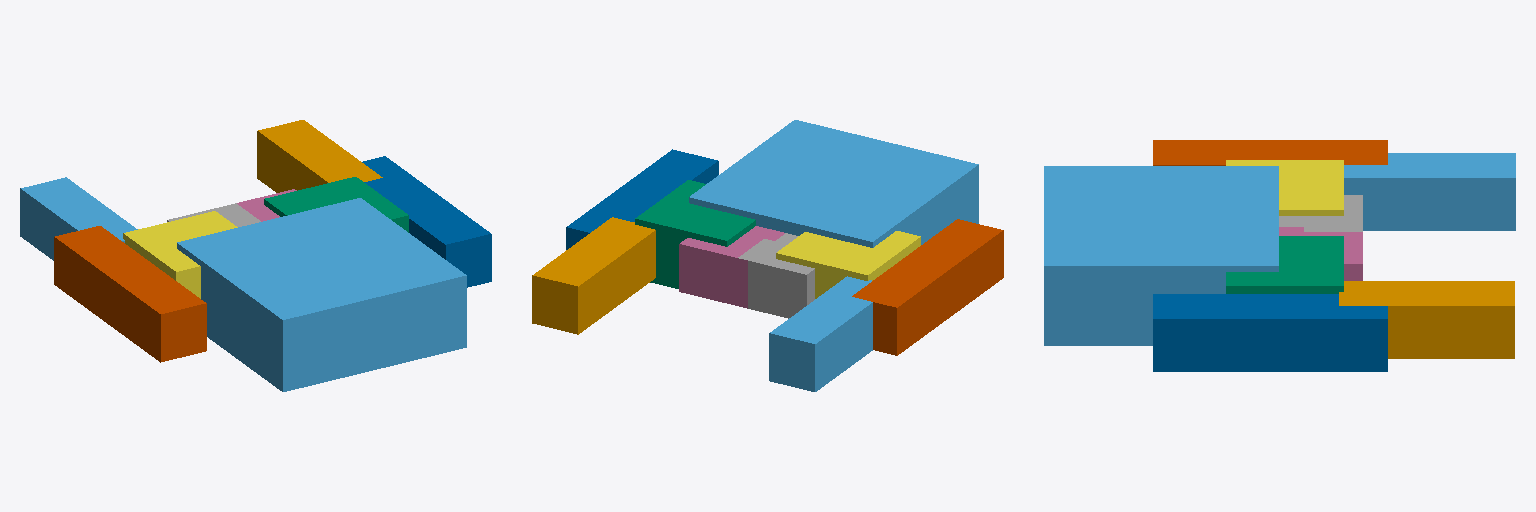
URDF robot description (sisbot):
<?xml version="1.0" ?>
<!-- =================================================================================== -->
<!-- |    This document was autogenerated by xacro from sisbot.xacro                   | -->
<!-- |    EDITING THIS FILE BY HAND IS NOT RECOMMENDED                                 | -->
<!-- =================================================================================== -->
<robot name="sisbot" xmlns:xacro="http://ros.org/wiki/xacro">
  <!--################################################
  ########              arm                    #######
  ####################################################-->

  <link name="base_link">
    <visual>
      <geometry>
        <mesh filename="../meshes/ur5/visual/base.obj"/>
      </geometry>
      <material name="LightGrey">
        <color rgba="0.7 0.7 0.7 1.0"/>
      </material>
    </visual>
    <collision>
      <geometry>
        <mesh filename="../meshes/ur5/collision/base.stl"/>
      </geometry>
    </collision>
    <inertial>
      <mass value="4.0"/>
      <origin rpy="0 0 0" xyz="0.0 0.0 0.0"/>
      <inertia ixx="0.00443333156" ixy="0.0" ixz="0.0" iyy="0.00443333156" iyz="0.0" izz="0.0072"/>
    </inertial>
  </link>

  <joint name="shoulder_pan_joint" type="revolute">
    <parent link="base_link"/>
    <child link="shoulder_link"/>
    <origin rpy="0.0 0.0 0.0" xyz="0.0 0.0 0.089159"/>
    <axis xyz="0 0 1"/>
    <limit effort="12550.0" lower="-3.14159265359" upper="3.14159265359" velocity="3.15"/>
    <dynamics damping="0.0" friction="0.0"/>
  </joint>
  <link name="shoulder_link">
    <visual>
      <geometry>
        <mesh filename="../meshes/ur5/visual/shoulder.obj"/>
      </geometry>
      <material name="LightGrey">
        <color rgba="0.7 0.7 0.7 1.0"/>
      </material>
    </visual>
    <collision>
      <geometry>
        <mesh filename="../meshes/ur5/collision/shoulder.stl"/>
      </geometry>
    </collision>
    <inertial>
      <mass value="3.7"/>
      <origin rpy="0 0 0" xyz="0.0 0.0 0.0"/>
      <inertia ixx="5" ixy="0.0" ixz="0.0" iyy="5" iyz="0.0" izz="5"/>
    </inertial>
  </link>
  <joint name="shoulder_lift_joint" type="revolute">
    <parent link="shoulder_link"/>
    <child link="upper_arm_link"/>
    <origin rpy="0.0 1.57079632679 0.0" xyz="0.0 0.13585 0.0"/>
    <axis xyz="0 1 0"/>
    <limit effort="1550.0" lower="-3.14159265359" upper="3.14159265359" velocity="3.15"/>
    <dynamics damping="0.0" friction="0.0"/>
  </joint>
  <link name="upper_arm_link">
    <visual>
      <geometry>
        <mesh filename="../meshes/ur5/visual/upperarm.obj"/>
      </geometry>
      <material name="LightGrey">
        <color rgba="0.7 0.7 0.7 1.0"/>
      </material>
    </visual>
    <collision>
      <geometry>
        <mesh filename="../meshes/ur5/collision/upperarm.stl"/>
      </geometry>
    </collision>
    <inertial>
      <mass value="8.393"/>
      <origin rpy="0 0 0" xyz="0.0 0.0 0.28"/>
      <inertia ixx="0.22689067591" ixy="0.0" ixz="0.0" iyy="0.22689067591" iyz="0.0" izz="0.0151074"/>
    </inertial>
  </link>
  <joint name="elbow_joint" type="revolute">
    <parent link="upper_arm_link"/>
    <child link="forearm_link"/>
    <origin rpy="0.0 0.0 0.0" xyz="0.0 -0.1197 0.425"/>
    <axis xyz="0 1 0"/>
    <limit effort="1550.0" lower="-3.14159265359" upper="3.14159265359" velocity="3.15"/>
    <dynamics damping="0.0" friction="0.0"/>
  </joint>
  <link name="forearm_link">
    <visual>
      <geometry>
        <mesh filename="../meshes/ur5/visual/forearm.obj"/>
      </geometry>
      <material name="LightGrey">
        <color rgba="0.7 0.7 0.7 1.0"/>
      </material>
    </visual>
    <collision>
      <geometry>
        <mesh filename="../meshes/ur5/collision/forearm.stl"/>
      </geometry>
    </collision>
    <inertial>
      <mass value="2.275"/>
      <origin rpy="0 0 0" xyz="0.0 0.0 0.25"/>
      <inertia ixx="0.049443313556" ixy="0.0" ixz="0.0" iyy="0.049443313556" iyz="0.0" izz="0.004095"/>
    </inertial>
  </link>
  <joint name="wrist_1_joint" type="revolute">
    <parent link="forearm_link"/>
    <child link="wrist_1_link"/>
    <origin rpy="0.0 1.57079632679 0.0" xyz="0.0 0.0 0.39225"/>
    <axis xyz="0 1 0"/>
    <limit effort="1558.0" lower="-3.14159265359" upper="3.14159265359" velocity="3.2"/>
    <dynamics damping="0.0" friction="0.0"/>
  </joint>
  <link name="wrist_1_link">
    <visual>
      <geometry>
        <mesh filename="../meshes/ur5/visual/wrist1.obj"/>
      </geometry>
      <material name="LightGrey">
        <color rgba="0.7 0.7 0.7 1.0"/>
      </material>
    </visual>
    <collision>
      <geometry>
        <mesh filename="../meshes/ur5/collision/wrist1.stl"/>
      </geometry>
    </collision>
    <inertial>
      <mass value="1.219"/>
      <origin rpy="0 0 0" xyz="0.0 0.0 0.0"/>
      <inertia ixx="0.111172755531" ixy="0.0" ixz="0.0" iyy="0.111172755531" iyz="0.0" izz="0.21942"/>
    </inertial>
  </link>
  <joint name="wrist_2_joint" type="revolute">
    <parent link="wrist_1_link"/>
    <child link="wrist_2_link"/>
    <origin rpy="0.0 0.0 0.0" xyz="0.0 0.093 0.0"/>
    <axis xyz="0 0 1"/>
    <limit effort="1558.0" lower="-3.14159265359" upper="3.14159265359" velocity="3.2"/>
    <dynamics damping="0.0" friction="0.0"/>
  </joint>
  <link name="wrist_2_link">
    <visual>
      <geometry>
        <mesh filename="../meshes/ur5/visual/wrist2.obj"/>
      </geometry>
      <material name="LightGrey">
        <color rgba="0.7 0.7 0.7 1.0"/>
      </material>
    </visual>
    <collision>
      <geometry>
        <mesh filename="../meshes/ur5/collision/wrist2.stl"/>
      </geometry>
    </collision>
    <inertial>
      <mass value="1.219"/>
      <origin rpy="0 0 0" xyz="0.0 0.0 0.0"/>
      <inertia ixx="0.111172755531" ixy="0.0" ixz="0.0" iyy="0.111172755531" iyz="0.0" izz="0.21942"/>
    </inertial>
  </link>
  <joint name="wrist_3_joint" type="revolute">
    <parent link="wrist_2_link"/>
    <child link="wrist_3_link"/>
    <origin rpy="0.0 0.0 0.0" xyz="0.0 0.0 0.09465"/>
    <axis xyz="0 1 0"/>
    <limit effort="10055.0" lower="-3.14159265359" upper="3.14159265359" velocity="3.2"/>
    <dynamics damping="0.0" friction="0.0"/>
  </joint>
  <link name="wrist_3_link">
    <visual>
      <geometry>
        <mesh filename="../meshes/ur5/visual/wrist3.obj"/>
      </geometry>
      <material name="LightGrey">
        <color rgba="0.7 0.7 0.7 1.0"/>
      </material>
    </visual>
    <collision>
      <geometry>
        <mesh filename="../meshes/ur5/collision/wrist3.stl"/>
      </geometry>
    </collision>
    <inertial>
      <mass value="0.1879"/>
      <origin rpy="0 0 0" xyz="0.0 0.0 0.0"/>
      <inertia ixx="0.0171364731454" ixy="0.0" ixz="0.0" iyy="0.0171364731454" iyz="0.0" izz="0.033822"/>
    </inertial>
  </link>
  <joint name="ee_fixed_joint" type="fixed">
    <parent link="wrist_3_link"/>
    <child link="ee_link"/>
    <origin rpy="0.0 0.0 1.57079632679" xyz="0.0 0.0823 0.0"/>
  </joint>
  <link name="ee_link">
    <collision>
      <geometry>
        <box size="0.01 0.01 0.01"/>
      </geometry>
      <origin rpy="0 0 0" xyz="-0.01 0 0"/>
    </collision>
  </link>

  <!--################################################
  ########              gripper                  #####
  ####################################################-->

  <link name="robotiq_85_adapter_link">
    <visual>
      <geometry>
        <box size="0.04 0.06 0.02"/>
      </geometry>
      <origin rpy="0 0 0" xyz="0 0 0"/>
    </visual>
    <collision>
      <geometry>
        <mesh filename="../meshes/robotiq_c2/collision/robotiq_85_gripper_adapter_plate.stl"/>
      </geometry>
      <origin rpy="0 0 1.5707" xyz="0 0 0"/>
    </collision>
  </link>
  <joint name="robotiq_85_base_joint" type="fixed">
    <parent link="robotiq_85_adapter_link"/>
    <child link="robotiq_85_base_link"/>
    <axis xyz="1 0 0"/>
    <origin rpy="0 0 0" xyz=".0085 0 -.0041"/>
  </joint>
  <link name="robotiq_85_base_link">
    <visual>
      <geometry>
        <box size="0.08 0.08 0.03"/>
      </geometry>
      <origin rpy="0 0 0" xyz="0 0 0"/>
    </visual>
    <collision>
      <geometry>
        <mesh filename="../meshes/robotiq_c2/collision/robotiq_85_gripper_base.stl"/>
      </geometry>
      <origin rpy="1.5707 0 1.5707" xyz="0 0 0"/>
    </collision>
  </link>
  <joint name="robotiq_85_left_knuckle_joint" type="revolute">
    <parent link="robotiq_85_base_link"/>
    <child link="robotiq_85_left_knuckle_link"/>
    <axis xyz="1 0 0"/>
    <origin rpy="-1.5707 1.5707 0" xyz="0.04191 0.0306 0"/>
    <limit effort="1000" lower="0" upper="0.343" velocity="2.0"/> <!-- upperLimit modified by johnson -->
  </joint>
  <joint name="robotiq_85_right_knuckle_joint" type="revolute">
    <parent link="robotiq_85_base_link"/>
    <child link="robotiq_85_right_knuckle_link"/>
    <axis xyz="1 0 0"/>
    <origin rpy="1.5707 -1.5707 0" xyz=".04191 -.0306 0"/>
    <limit effort="1000" lower="0" upper="1.5707" velocity="2.0"/>
    <mimic joint="robotiq_85_left_knuckle_joint" multiplier="1"/>
  </joint>
  <link name="robotiq_85_left_knuckle_link">
    <visual>
      <geometry>
        <box size="0.025 0.04 0.04"/>
      </geometry>
      <origin rpy="0 0 0" xyz="0 0 0"/>
    </visual>
    <collision>
      <geometry>
        <mesh filename="../meshes/robotiq_c2/collision/robotiq_85_gripper_joint_0_L.stl"/>
      </geometry>
      <origin rpy="1.5707 -1.5707 0" xyz="0 .04191 -.0306"/>
    </collision>
  </link>
  <link name="robotiq_85_right_knuckle_link">
    <visual>
      <geometry>
        <box size="0.025 0.04 0.04"/>
      </geometry>
      <origin rpy="0 0 0" xyz="0 0 0"/>
    </visual>
    <collision>
      <geometry>
        <mesh filename="../meshes/robotiq_c2/collision/robotiq_85_gripper_joint_0_R.stl"/>
      </geometry>
      <origin rpy="1.5707 1.5707 0" xyz="0 .04191 -.0306"/>
    </collision>
  </link>
  <joint name="robotiq_85_left_finger_joint" type="fixed">
    <parent link="robotiq_85_left_knuckle_link"/>
    <child link="robotiq_85_left_finger_link"/>
    <axis xyz="1 0 0"/>
    <origin rpy="3.1415 0 0" xyz="0 .00508 .03134"/>
    <limit effort="1000" lower="0" upper="1.5707" velocity="2.0"/>
  </joint>
  <joint name="robotiq_85_right_finger_joint" type="fixed">
    <parent link="robotiq_85_right_knuckle_link"/>
    <child link="robotiq_85_right_finger_link"/>
    <axis xyz="1 0 0"/>
    <origin rpy="3.1415 0 0" xyz="0 .00508 .03134"/>
    <limit effort="1000" lower="0" upper="1.5707" velocity="2.0"/>
  </joint>
  <link name="robotiq_85_left_finger_link">
    <visual>
      <geometry>
        <box size="0.02 0.08 0.02"/>
      </geometry>
      <origin rpy="0 0 0" xyz="0 0 0"/>
    </visual>
    <collision>
      <geometry>
        <mesh filename="../meshes/robotiq_c2/collision/robotiq_85_gripper_joint_1_L.stl"/>
      </geometry>
      <origin rpy="-1.5707 1.5707 0" xyz="0 -.03683 .06194"/>
    </collision>
  </link>
  <link name="robotiq_85_right_finger_link">
    <visual>
      <geometry>
        <box size="0.02 0.08 0.02"/>
      </geometry>
      <origin rpy="0 0 0" xyz="0 0 0"/>
    </visual>
    <collision>
      <geometry>
        <mesh filename="../meshes/robotiq_c2/collision/robotiq_85_gripper_joint_1_R.stl"/>
      </geometry>
      <origin rpy="-1.5707 -1.5707 0" xyz="0 -.03683 .06194"/>
    </collision>
  </link>
  <joint name="robotiq_85_left_inner_knuckle_joint" type="revolute">
    <parent link="robotiq_85_base_link"/>
    <child link="robotiq_85_left_inner_knuckle_link"/>
    <axis xyz="1 0 0"/>
    <origin rpy="1.5707 1.5707 0" xyz=".04843 .0127 0"/>
    <limit effort="1000" lower="0" upper="1.5707" velocity="2.0"/>
    <mimic joint="robotiq_85_left_knuckle_joint" offset="0"/>
  </joint>
  <joint name="robotiq_85_right_inner_knuckle_joint" type="revolute">
    <parent link="robotiq_85_base_link"/>
    <child link="robotiq_85_right_inner_knuckle_link"/>
    <axis xyz="1 0 0"/>
    <origin rpy="-1.5707 -1.5707 0" xyz=".04843 -.0127 0"/>
    <limit effort="1000" lower="0" upper="1.5707" velocity="2.0"/>
    <mimic joint="robotiq_85_left_knuckle_joint" offset="0"/>
  </joint>
  <link name="robotiq_85_left_inner_knuckle_link">
    <visual>
      <geometry>
        <box size="0.02 0.04 0.03"/>
      </geometry>
      <origin rpy="0 0 0" xyz="0 0 0"/>
    </visual>
    <collision>
      <geometry>
        <mesh filename="../meshes/robotiq_c2/collision/robotiq_85_gripper_joint_2_L.stl"/>
      </geometry>
      <origin rpy="-1.5707 1.5707 0" xyz="0 -.04843 .0127"/>
    </collision>
  </link>
  <link name="robotiq_85_right_inner_knuckle_link">
    <visual>
      <geometry>
        <box size="0.02 0.04 0.03"/>
      </geometry>
      <origin rpy="0 0 0" xyz="0 0 0"/>
    </visual>
    <collision>
      <geometry>
        <mesh filename="../meshes/robotiq_c2/collision/robotiq_85_gripper_joint_2_R.stl"/>
      </geometry>
      <origin rpy="-1.5707 -1.5707 0" xyz="0 -.04843 .0127"/>
    </collision>
  </link>
  <joint name="robotiq_85_left_finger_tip_joint" type="revolute">
    <parent link="robotiq_85_left_inner_knuckle_link"/>
    <child link="robotiq_85_left_finger_tip_link"/>
    <axis xyz="1 0 0"/>
    <origin rpy="0 0 0" xyz="0 .04196 -.0388"/>
    <limit effort="1000" lower="0" upper="1.5707" velocity="2.0"/>
    <mimic joint="robotiq_85_left_knuckle_joint" multiplier="-1"/>
  </joint>
  <joint name="robotiq_85_right_finger_tip_joint" type="revolute">
    <parent link="robotiq_85_right_inner_knuckle_link"/>
    <child link="robotiq_85_right_finger_tip_link"/>
    <axis xyz="1 0 0"/>
    <origin rpy="0 0 0" xyz="0 .04196 -.0388"/>
    <limit effort="1000" lower="0" upper="1.5707" velocity="2.0"/>
    <mimic joint="robotiq_85_left_knuckle_joint" multiplier="-1"/>
  </joint>
  <link name="robotiq_85_left_finger_tip_link">
    <visual>
      <geometry>
        <box size="0.02 0.06 0.02"/>
      </geometry>
      <origin rpy="0 0 0" xyz="0 0 0"/>
    </visual>
    <collision>
      <geometry>
        <mesh filename="../meshes/robotiq_c2/collision/robotiq_85_gripper_joint_3_L.stl"/>
      </geometry>
      <origin rpy="-1.5707 1.5707 0" xyz="0 -.090381 .051505"/>
    </collision>
  </link>
  <link name="robotiq_85_right_finger_tip_link">
    <visual>
      <geometry>
        <box size="0.02 0.06 0.02"/>
      </geometry>
      <origin rpy="0 0 0" xyz="0 0 0"/>
    </visual>
    <collision>
      <geometry>
        <mesh filename="../meshes/robotiq_c2/collision/robotiq_85_gripper_joint_3_R.stl"/>
      </geometry>
      <origin rpy="-1.5707 -1.5707 0" xyz="0 -.090381 .051505"/>
    </collision>
  </link>

  <!--################################################
  ########          connect model                #####
  ####################################################-->

  <!-- connect arm to world -->
  <link name="world"/>
  <joint name="world_joint" type="fixed">
    <parent link="world"/>
    <child link="base_link"/>
    <origin rpy="0.0 0.0 0" xyz="0.0 0.0 0.1"/>
  </joint>
  <!-- connect gripper to arm -->
  <joint name="arm_gripper_joint" type="fixed">
    <parent link="wrist_3_link"/>
    <child link="robotiq_85_adapter_link"/>
    <origin rpy="0.0 0.0 1.5708" xyz="0.0 0.089 0.0"/>
  </joint>

</robot>

--- What the picture shows (computed from the rendered views, not written in the file) ---
Views: 3 orthographic renders of the robot side by side, from view 1: azimuth 30°, elevation 25°; view 2: azimuth 150°, elevation 25°; view 3: azimuth 270°, elevation 25°.
Model sisbot with 19 links and 18 joints (12 revolute, 6 fixed), rooted at world, posed every joint at zero.
Visible links, largest first — view 1: robotiq_85_base_link, robotiq_85_right_finger_link, robotiq_85_left_finger_link, robotiq_85_left_finger_tip_link, robotiq_85_right_finger_tip_link, robotiq_85_right_knuckle_link, robotiq_85_left_knuckle_link, robotiq_85_right_inner_knuckle_link, robotiq_85_left_inner_knuckle_link; view 2: robotiq_85_base_link, robotiq_85_right_finger_link, robotiq_85_left_finger_tip_link, robotiq_85_right_finger_tip_link, robotiq_85_left_knuckle_link, robotiq_85_left_finger_link, robotiq_85_right_knuckle_link, robotiq_85_left_inner_knuckle_link, robotiq_85_right_inner_knuckle_link; view 3: robotiq_85_base_link, robotiq_85_left_finger_link, robotiq_85_right_finger_tip_link, robotiq_85_left_finger_tip_link, robotiq_85_right_finger_link, robotiq_85_left_knuckle_link, robotiq_85_right_knuckle_link, robotiq_85_right_inner_knuckle_link, robotiq_85_left_inner_knuckle_link.
Link boxes in pixels (<box>): robotiq_85_base_link: <box>177,198,466,391</box>; robotiq_85_right_finger_link: <box>54,226,206,362</box>; robotiq_85_left_finger_link: <box>362,156,491,287</box>; robotiq_85_left_finger_tip_link: <box>257,120,382,192</box>; robotiq_85_right_finger_tip_link: <box>20,177,137,260</box>; robotiq_85_right_knuckle_link: <box>123,211,237,298</box>; robotiq_85_left_knuckle_link: <box>264,177,408,232</box>; robotiq_85_right_inner_knuckle_link: <box>167,203,260,226</box>; robotiq_85_left_inner_knuckle_link: <box>237,189,296,221</box>; robotiq_85_base_link: <box>689,120,978,247</box>; robotiq_85_right_finger_link: <box>852,219,1003,355</box>; robotiq_85_left_finger_tip_link: <box>532,217,655,334</box>; robotiq_85_right_finger_tip_link: <box>769,276,872,391</box>; robotiq_85_left_knuckle_link: <box>635,180,755,288</box>; robotiq_85_left_finger_link: <box>566,149,718,249</box>; robotiq_85_right_knuckle_link: <box>776,231,920,298</box>; robotiq_85_left_inner_knuckle_link: <box>679,226,784,308</box>; robotiq_85_right_inner_knuckle_link: <box>738,233,814,318</box>; robotiq_85_base_link: <box>1044,166,1278,345</box>; robotiq_85_left_finger_link: <box>1153,294,1387,371</box>; robotiq_85_right_finger_tip_link: <box>1344,153,1515,230</box>; robotiq_85_left_finger_tip_link: <box>1339,281,1514,358</box>; robotiq_85_right_finger_link: <box>1153,140,1387,165</box>; robotiq_85_left_knuckle_link: <box>1226,236,1343,293</box>; robotiq_85_right_knuckle_link: <box>1226,160,1343,215</box>; robotiq_85_right_inner_knuckle_link: <box>1279,195,1362,231</box>; robotiq_85_left_inner_knuckle_link: <box>1279,227,1362,280</box>.
Size in the robot's own frame: 0.1439 by 0.1604 by 0.03 metres.
0 mesh visuals loaded from 7 distinct referenced files (none loaded); not drawn: 7 (reference not matched to a file when rendering).
